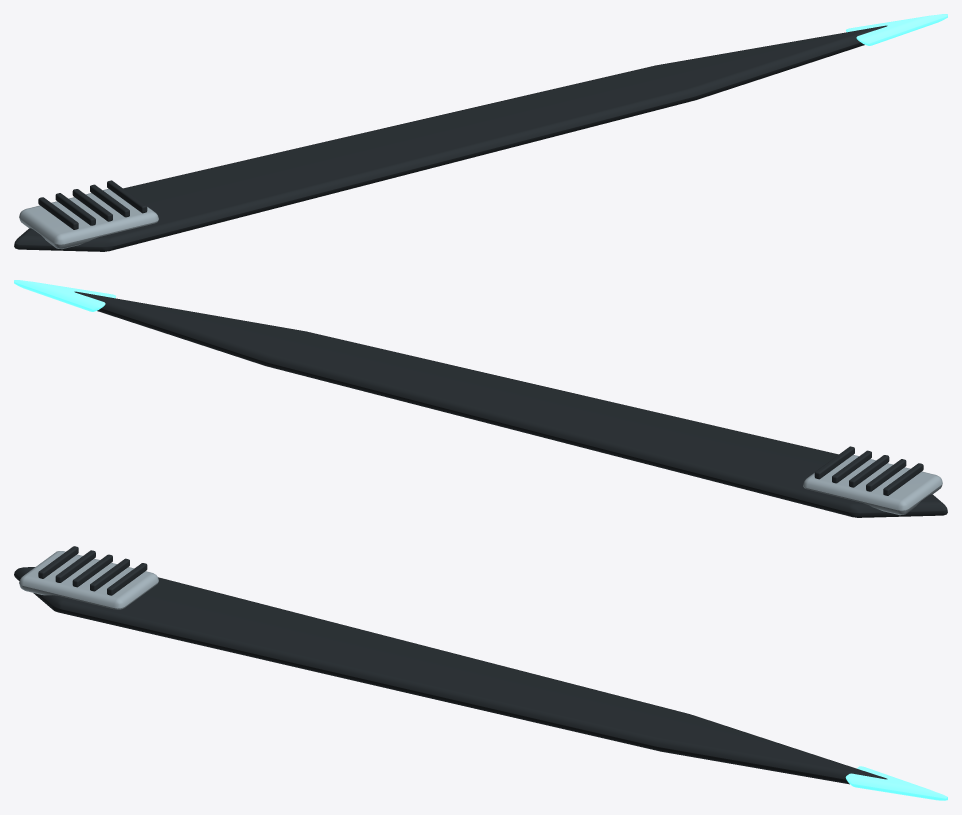
File: debris-hull.glb
3 renders of one model, top to bottom at view 1: azimuth 30°, elevation 25°; view 2: azimuth 150°, elevation 25°; view 3: azimuth 330°, elevation 25°, orthographic.
Visible parts, largest first — view 1: debris-hull; view 2: debris-hull; view 3: debris-hull.
Part boxes in pixels (bbox=[...]): debris-hull: bbox=[14, 14, 947, 251]; debris-hull: bbox=[14, 280, 947, 517]; debris-hull: bbox=[14, 546, 947, 800].
Bounding box in the file's own units: 1 × 0.0301 × 0.1007.
